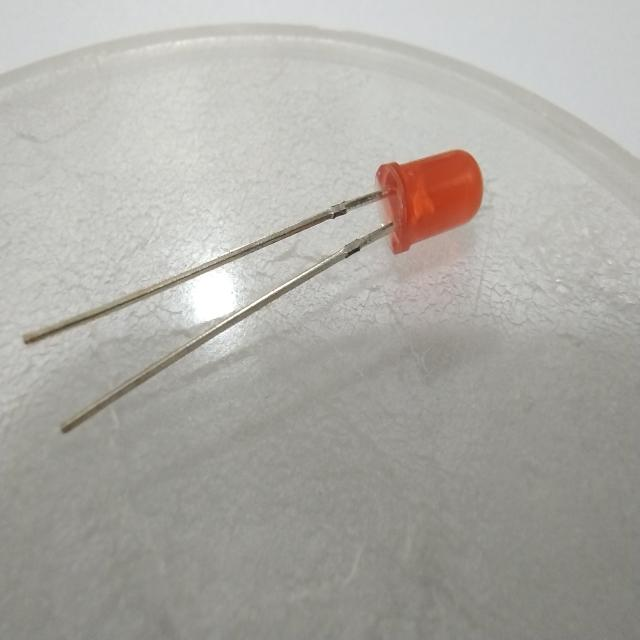red_led: (372, 142, 489, 265)
